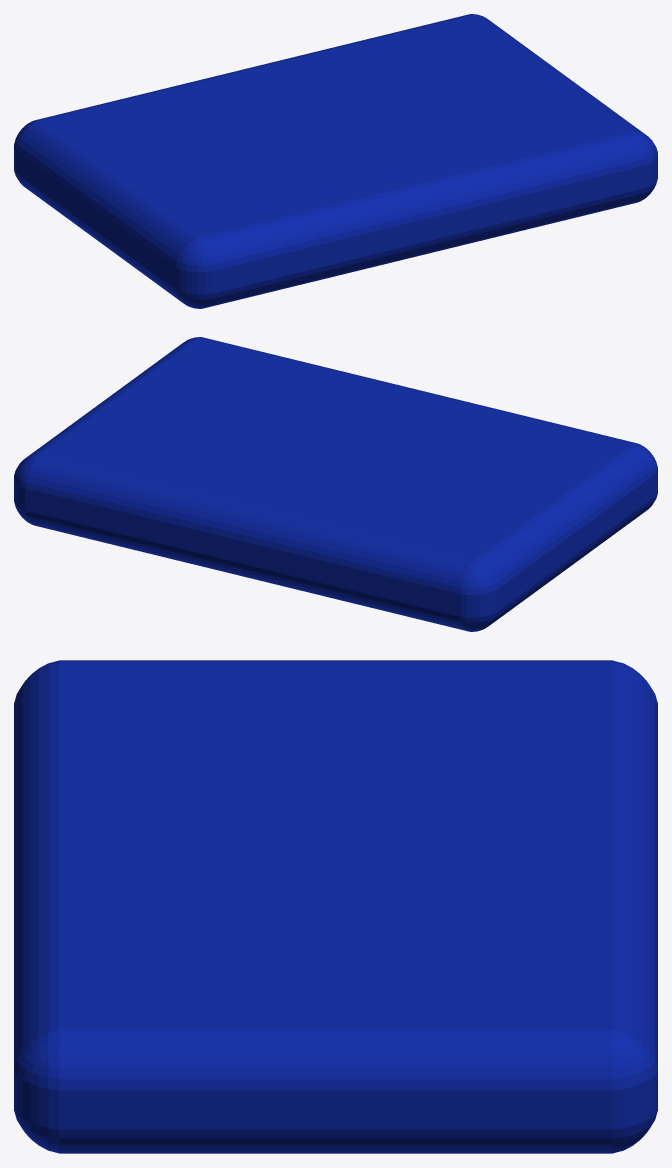
File: Button.fbx
3 views of the same model, one above another, from view 1: azimuth 30°, elevation 25°; view 2: azimuth 150°, elevation 25°; view 3: azimuth 270°, elevation 25° (orthographic). The views are drawn at different scales.
Visible parts, largest first — view 1: Cube; view 2: Cube; view 3: Cube.
Boxes of the visible parts, left/top/right/bottom form: Cube: left=14, top=14, right=657, bottom=308; Cube: left=14, top=337, right=657, bottom=631; Cube: left=14, top=660, right=657, bottom=1153.
Size of the model in its own units: 564 by 78.8 by 378.
